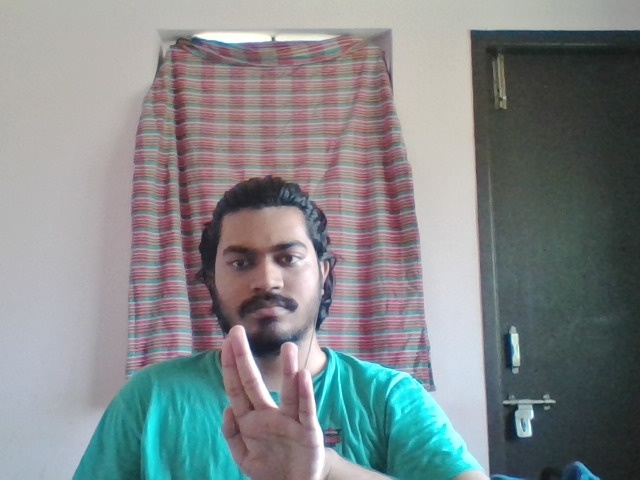LiveLong: (223, 325, 326, 480)
